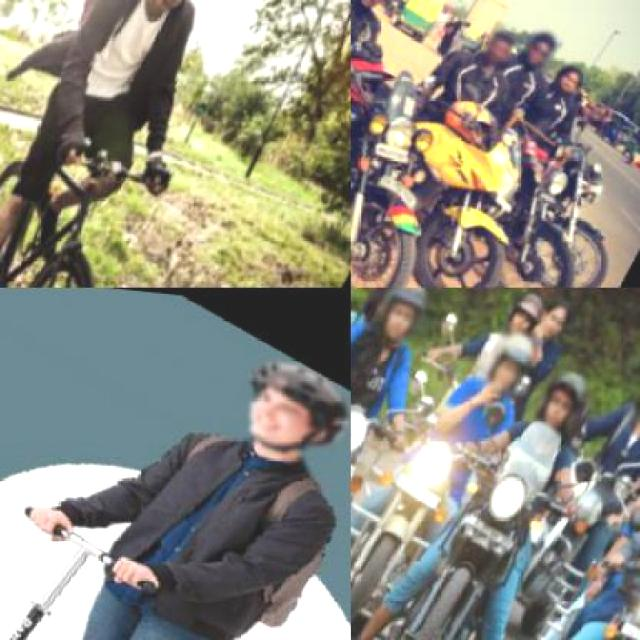With Helmet: (214, 326, 349, 477), (526, 344, 606, 438), (474, 310, 548, 401), (368, 288, 444, 349), (500, 288, 554, 340), (620, 324, 638, 430)
Without Helmet: (519, 9, 570, 66), (480, 11, 526, 64), (534, 288, 580, 338), (552, 44, 597, 91)
